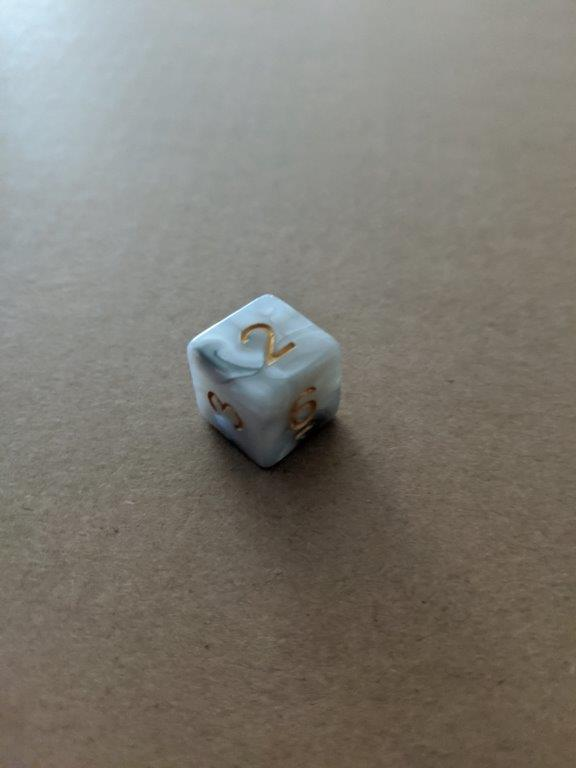d6-2: (188, 290, 343, 467)
